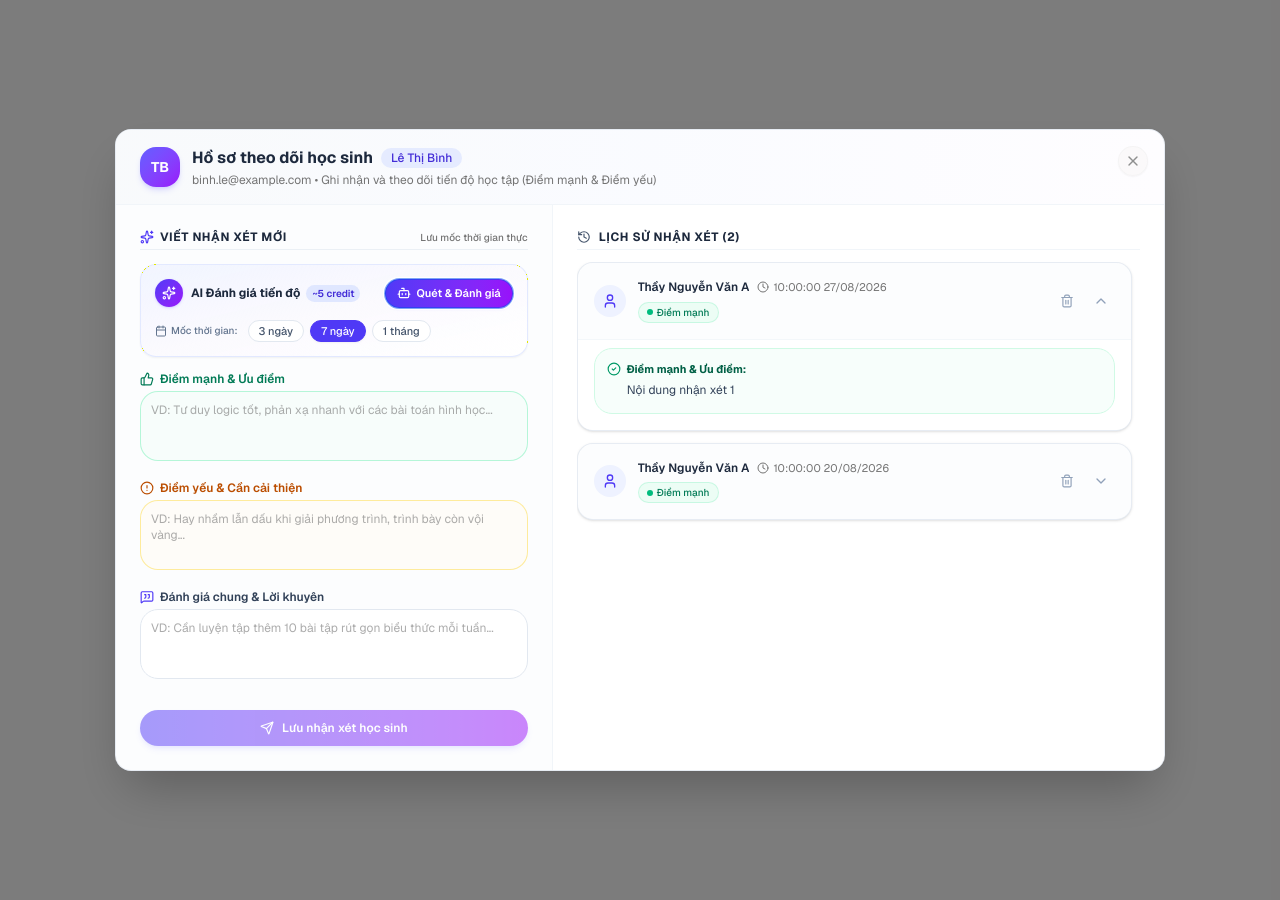
Test: StudentRemarksModal Component › click vào nhận xét trong danh sách để mở rộng / thu gọn chi tiết
Expected: the text "Nội dung nhận xét 1" is shown, [627,382,735,398]
Expected: the text "Nội dung nhận xét 2" is not shown
What coordinates should you click on to do the following:
click the text "Thầy Nguyễn Văn A" next to "10:00:00 20/08/2026"
I would click on:
 (694, 468)
Its box is [638,460,750,476].
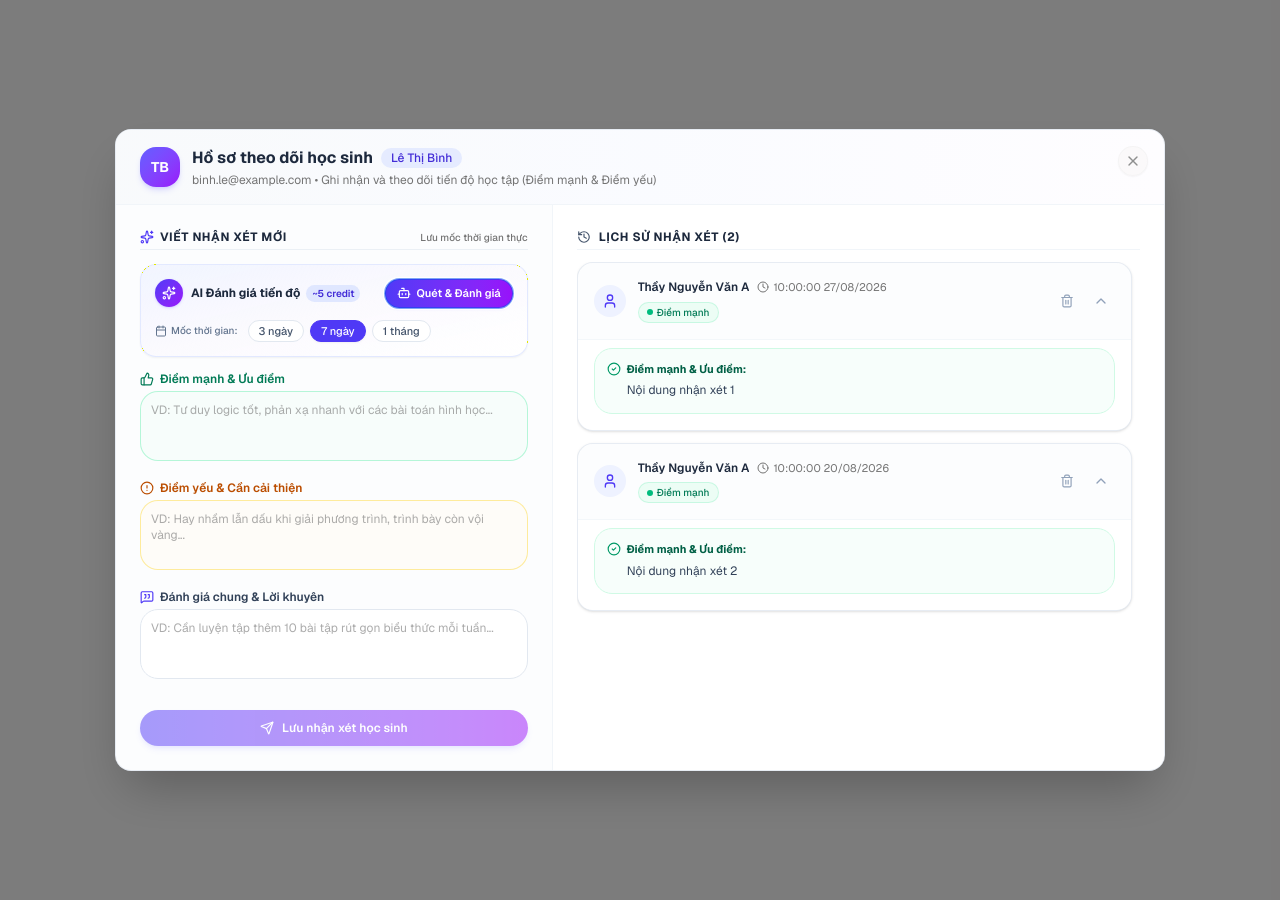
Now the text "Nội dung nhận xét 2" is shown, box [627,562,738,578]
